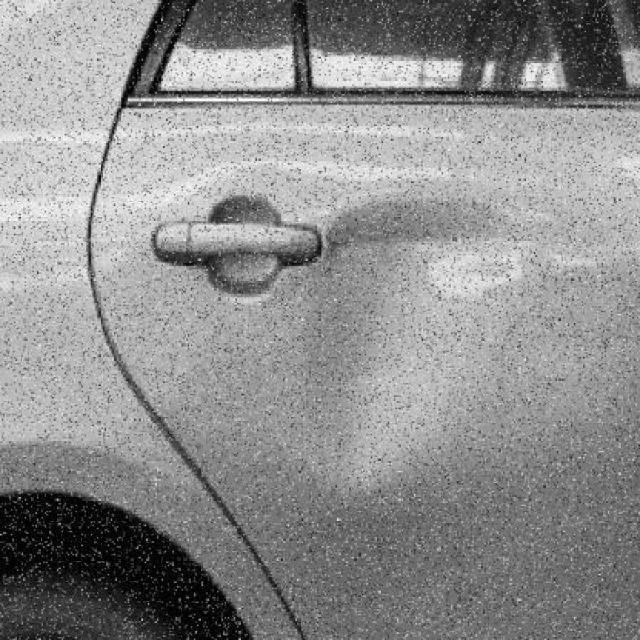doorouter-dent: (96, 101, 639, 637)
